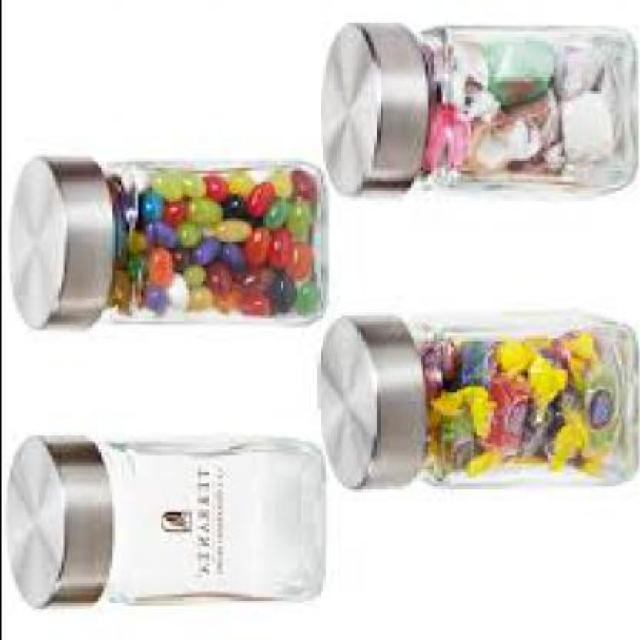BIODEGRADABLE: (466, 86, 546, 162), (546, 80, 614, 168), (480, 37, 558, 108), (548, 32, 608, 96), (424, 96, 467, 179), (441, 34, 484, 111), (520, 94, 563, 171), (185, 190, 228, 224), (259, 270, 293, 310), (259, 216, 284, 270), (210, 213, 253, 244), (216, 188, 250, 225), (210, 279, 248, 310), (171, 208, 194, 250), (142, 248, 166, 288), (285, 270, 309, 310), (106, 264, 126, 308), (199, 177, 227, 208), (284, 196, 304, 239), (162, 270, 185, 307), (137, 222, 171, 247), (265, 168, 290, 202), (114, 162, 144, 190), (276, 239, 298, 276), (262, 196, 282, 236), (117, 224, 141, 256), (239, 268, 267, 295), (244, 176, 264, 213), (105, 191, 130, 218), (153, 194, 176, 221), (179, 253, 199, 284), (258, 193, 278, 224), (284, 172, 308, 196), (134, 285, 157, 309), (154, 168, 171, 200), (173, 173, 196, 196), (168, 239, 185, 270), (137, 188, 154, 218), (185, 282, 208, 304), (244, 222, 258, 258), (204, 262, 218, 293), (170, 217, 188, 241), (224, 174, 242, 194), (196, 238, 210, 262)
GLASS: (398, 313, 638, 487), (91, 432, 318, 597), (97, 154, 321, 321), (416, 23, 629, 194)
METAL: (313, 313, 424, 487), (313, 23, 427, 191), (2, 432, 109, 610), (9, 153, 114, 324)
PLASTIC: (480, 367, 538, 467), (420, 380, 498, 438), (534, 333, 592, 398), (529, 404, 583, 464), (430, 416, 476, 476), (518, 407, 558, 464), (452, 338, 501, 384), (578, 381, 612, 444), (416, 338, 456, 387), (520, 356, 554, 410), (492, 333, 532, 373), (458, 444, 498, 478)
